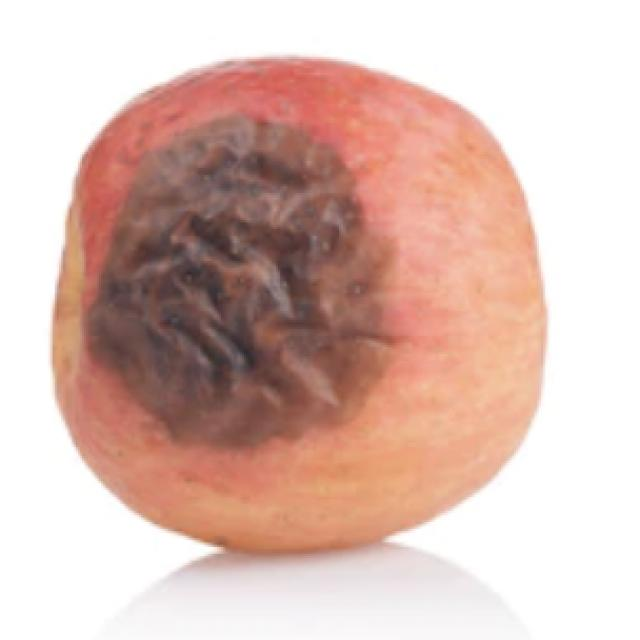rotten_apple: (50, 60, 550, 552)
